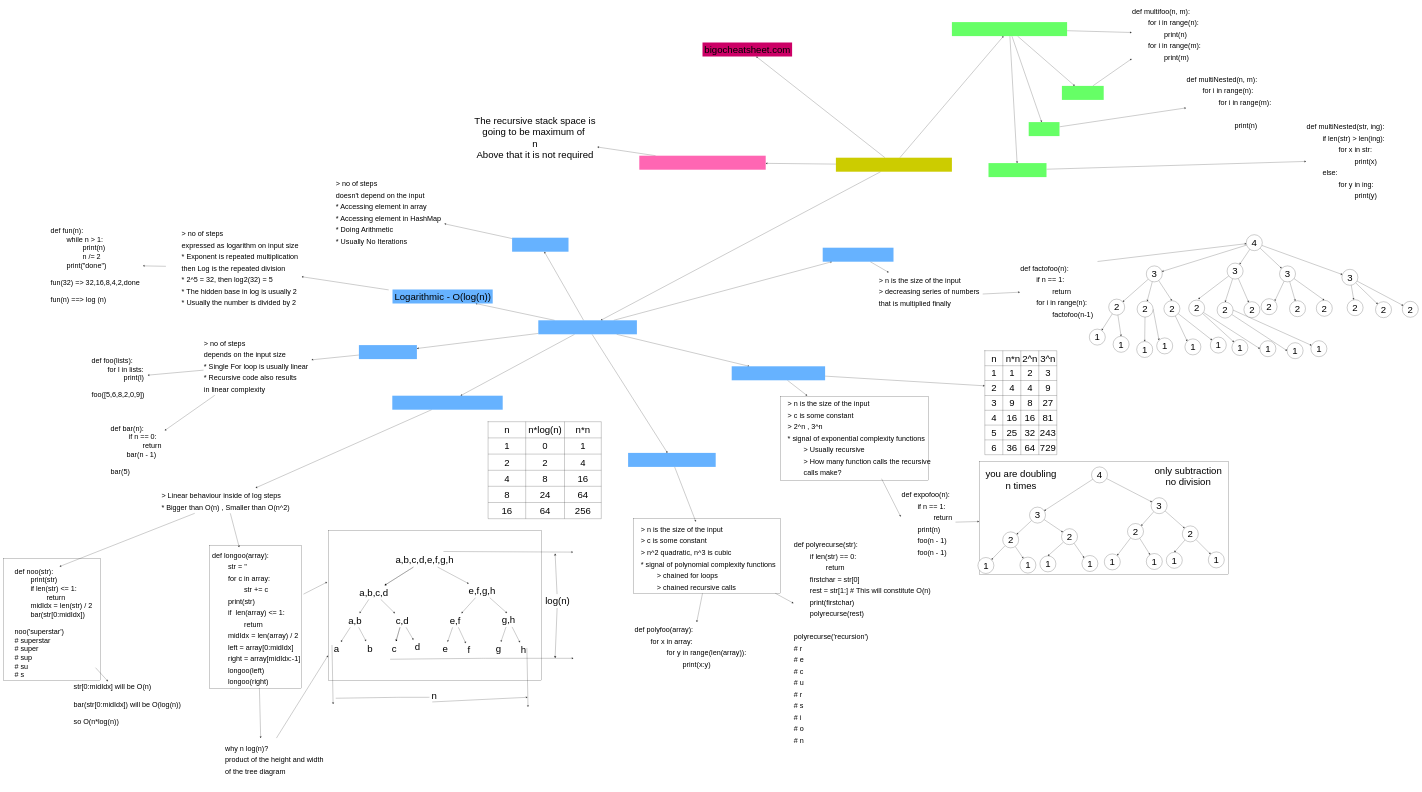
Some shapes in this 1422 by 792 pixel diagram are drawn without their labels. Each missing label, with the centre of its shape:
"7 Complexity Classes" goes at point 587,327.
"Analyze fn with Multi-input" goes at point 1009,29.
"Big O Complexity Classes" goes at point 894,165.
"Const - O(1)" goes at point 540,245.
"Exponential - O(c^n)" goes at point 778,373.
"Factorial - O(n!)" goes at point 858,255.
"Linear - O(n)" goes at point 388,352.
"Log Linear - O(n * log(n))" goes at point 447,403.
"O(m + n)" goes at point 1083,93.
"O(max(m,n))" goes at point 1017,170.
"O(mn)" goes at point 1044,129.
"Polynomial - O(n^c)" goes at point 672,460.
"Recursive Space Complexity" goes at point 702,163.
